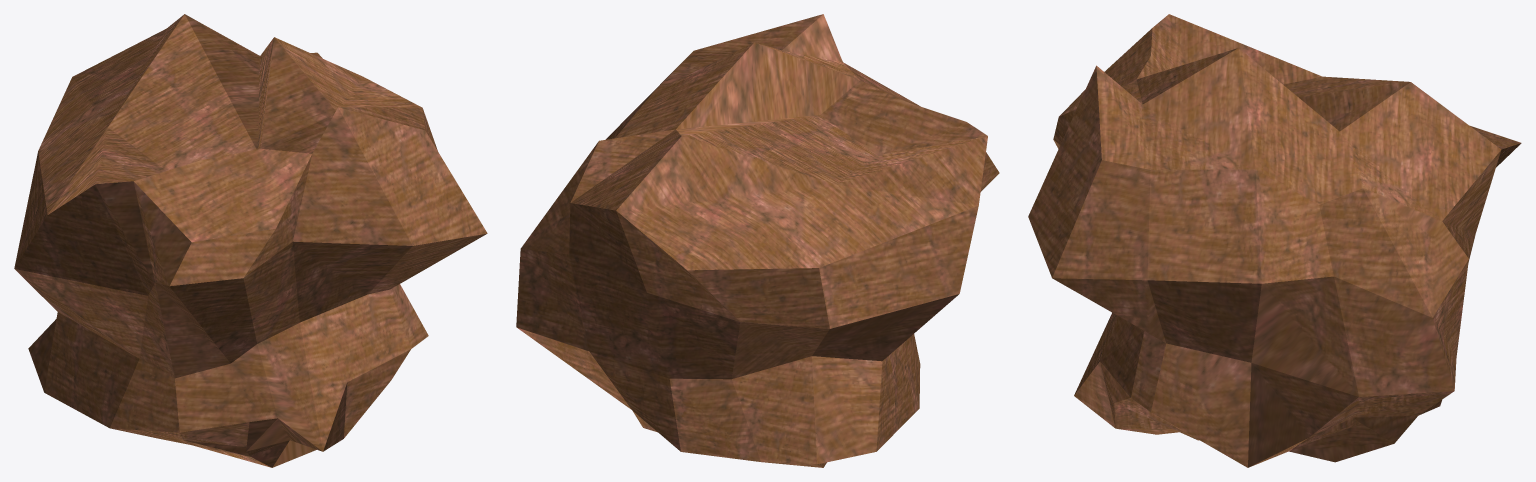
The model's file is Pedra_2_Desertica.fbx.
3 renders of one model, left to right at view 1: azimuth 30°, elevation 25°; view 2: azimuth 150°, elevation 25°; view 3: azimuth 270°, elevation 25°, orthographic. The views are drawn at different scales.
Parts seen in each view (by area): view 1: Pedra_2; view 2: Pedra_2; view 3: Pedra_2.
Part boxes in pixels (box(x1,y1,x2,y2)): Pedra_2: box(14, 14, 487, 467); Pedra_2: box(516, 14, 999, 467); Pedra_2: box(1028, 14, 1521, 467).
Bounding box in the file's own units: 189 × 178 × 195.
Materials: 1 (1 with a texture image).
